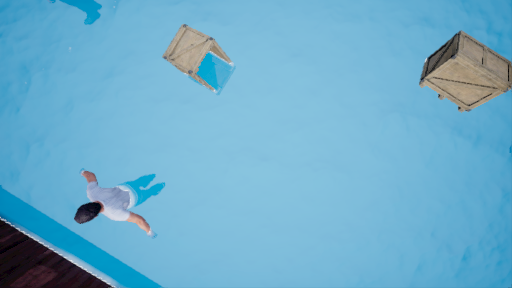person: (74, 167, 176, 237)
